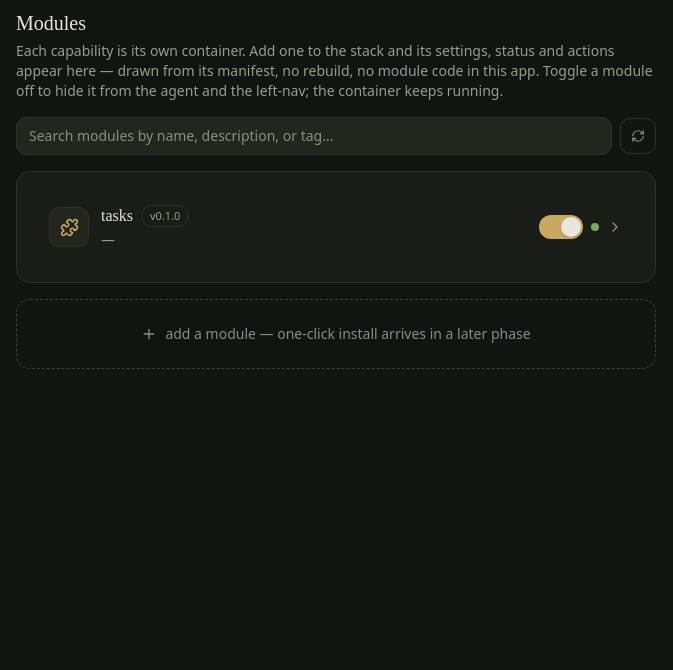
Test case: ModulesScreen per-module provider removal (#764) › collapses the provider block to one quiet row once nothing is enabled
The image size is (673, 670).
Click the button named "expand" at (615, 227), box [607,219,623,235]
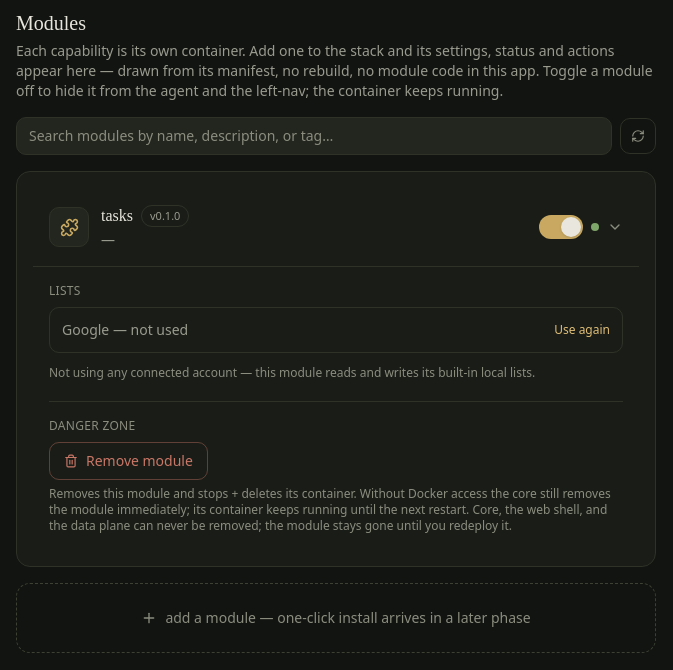
Expected: the text "Google — not used" is shown, [62,320,188,339]
Expected: the button "Use again" is shown, [554,322,610,338]
